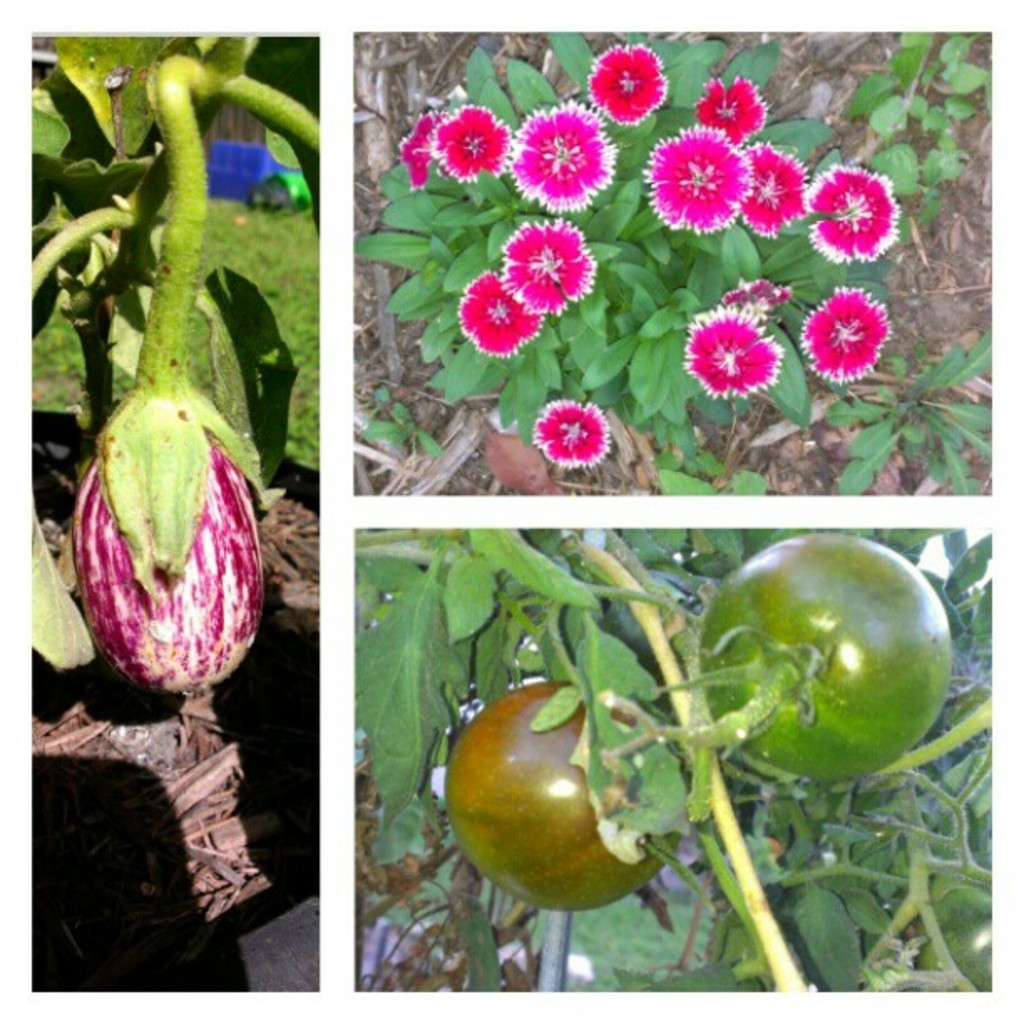Tomato: (699, 530, 948, 783), (445, 680, 675, 913), (918, 866, 990, 992)
